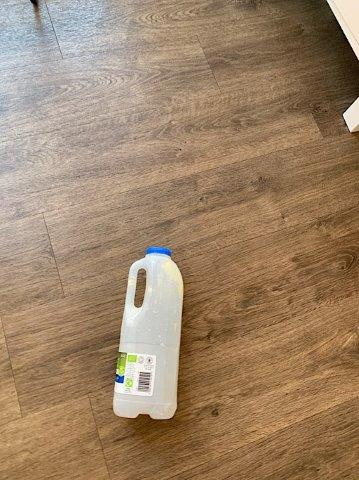botolplastik: (114, 247, 184, 417)
